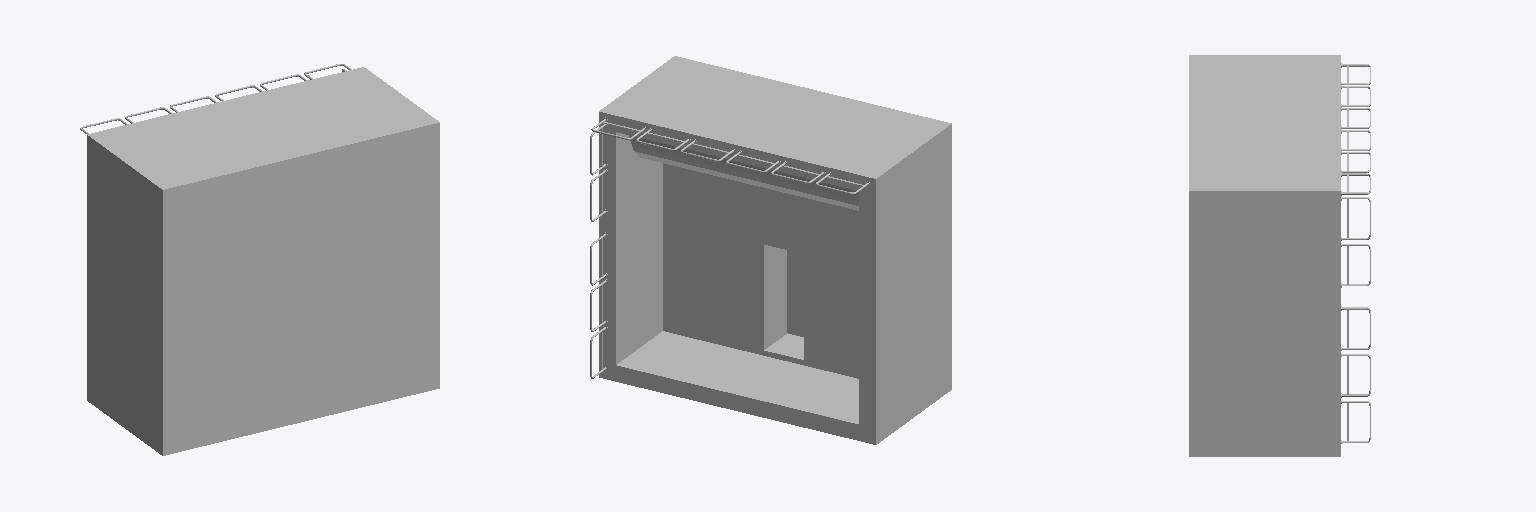
Rendered from wavetank.obj.
3 renders of one model, left to right at view 1: azimuth 30°, elevation 25°; view 2: azimuth 150°, elevation 25°; view 3: azimuth 270°, elevation 25°, orthographic.
Visible parts, largest first — view 1: Cube; view 2: Cube; view 3: Cube.
Boxes of the visible parts, x1,y1,x2,y2 form: Cube: [80, 64, 439, 455]; Cube: [590, 56, 951, 444]; Cube: [1189, 55, 1370, 456].
Size of the model in its own units: 13.7 by 12.56 by 7.78.